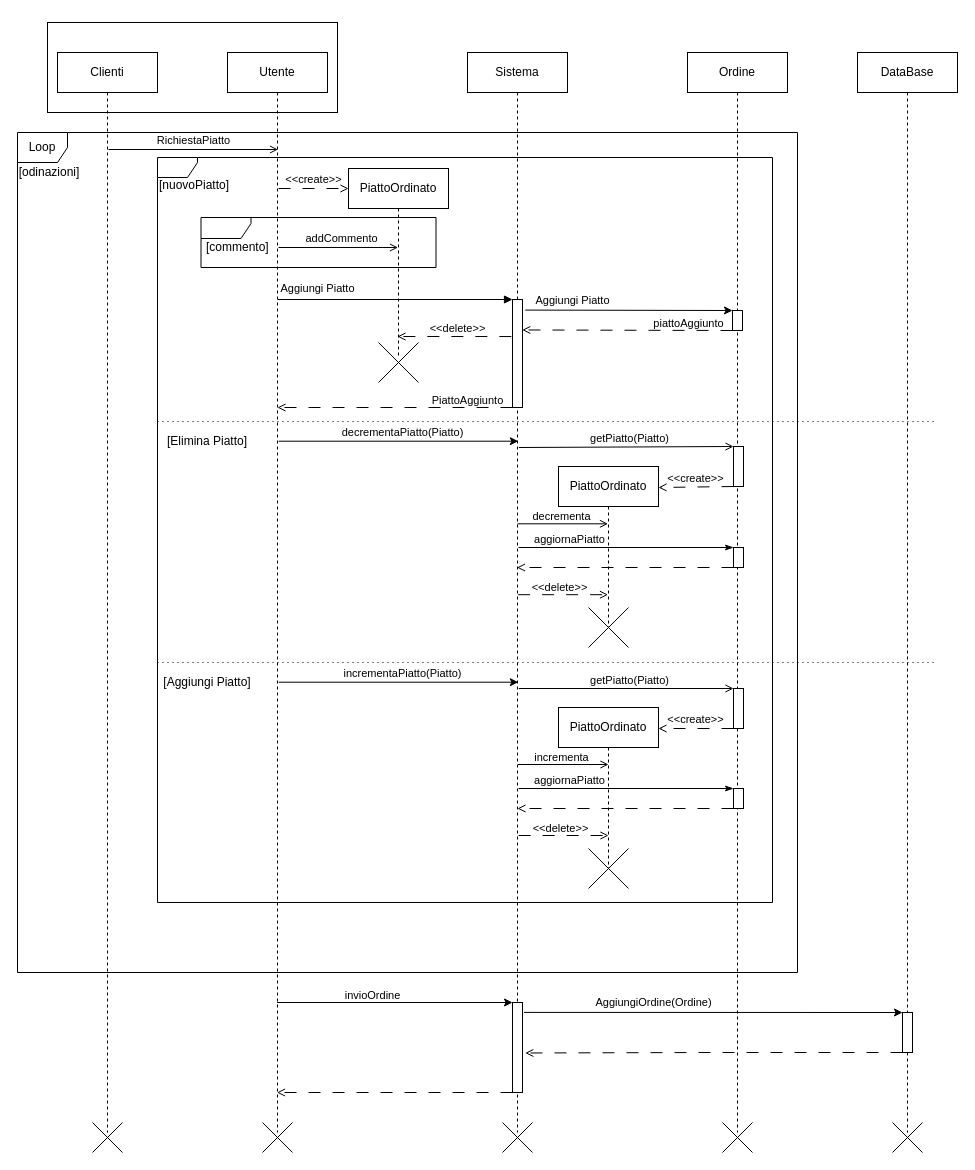
The diagram is 975 pixels wide and 1170 high, and some of its shapes have lost their labels. Each missing label, with the box of its shape:
alt: (156, 156, 772, 902)
Entità Esterne: (46, 22, 338, 112)
opt: (200, 216, 436, 268)
